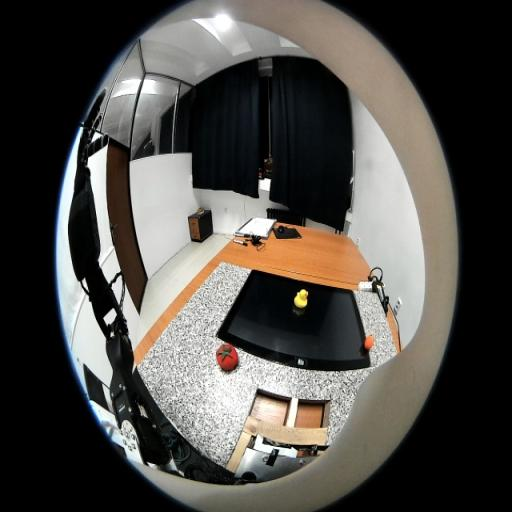Duck: (293, 289, 309, 308)
LeftHand: (77, 129, 90, 168)
Orange: (364, 335, 374, 350)
Tomato: (216, 344, 239, 370)
